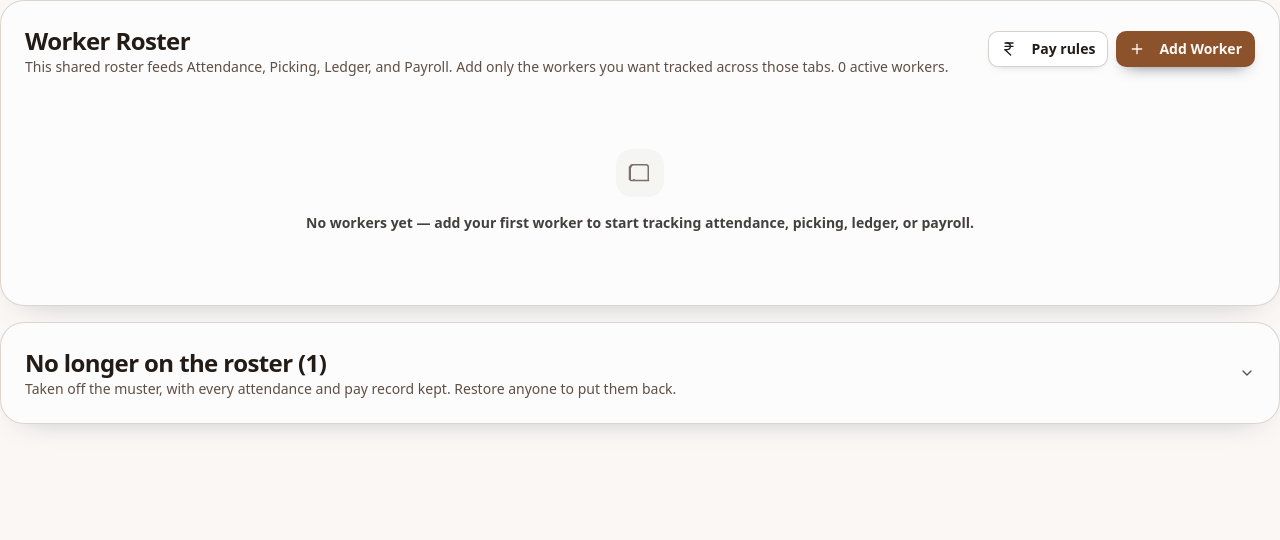
Test: a worker taken off the roster can be found and put back › actually moves her — off the recovery list and back onto the roster
Click the button "No longer on the roster".
click(165, 362)  # box [25,347,1255,399]
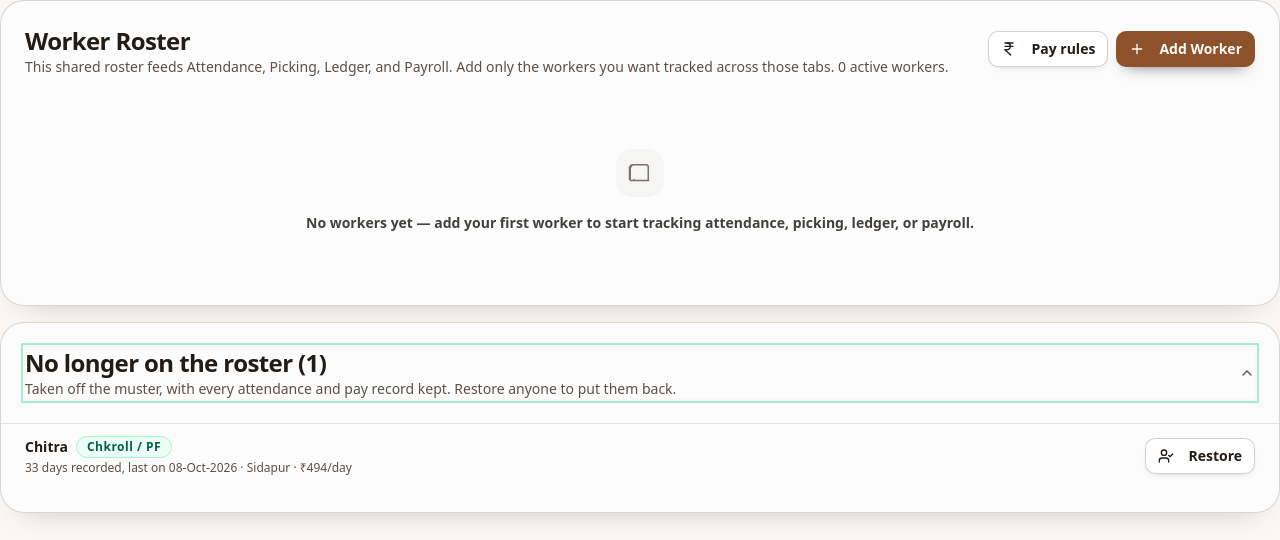
Click the button "Restore".
click(1200, 456)  # box [1145,438,1255,474]
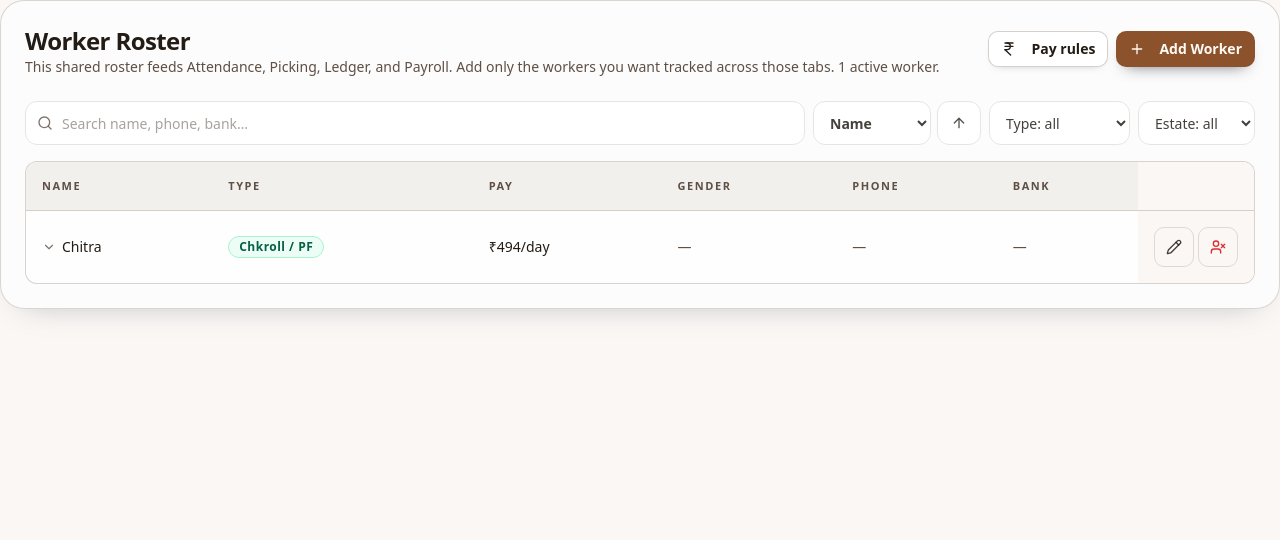
Now the button "No longer on the roster" is gone
